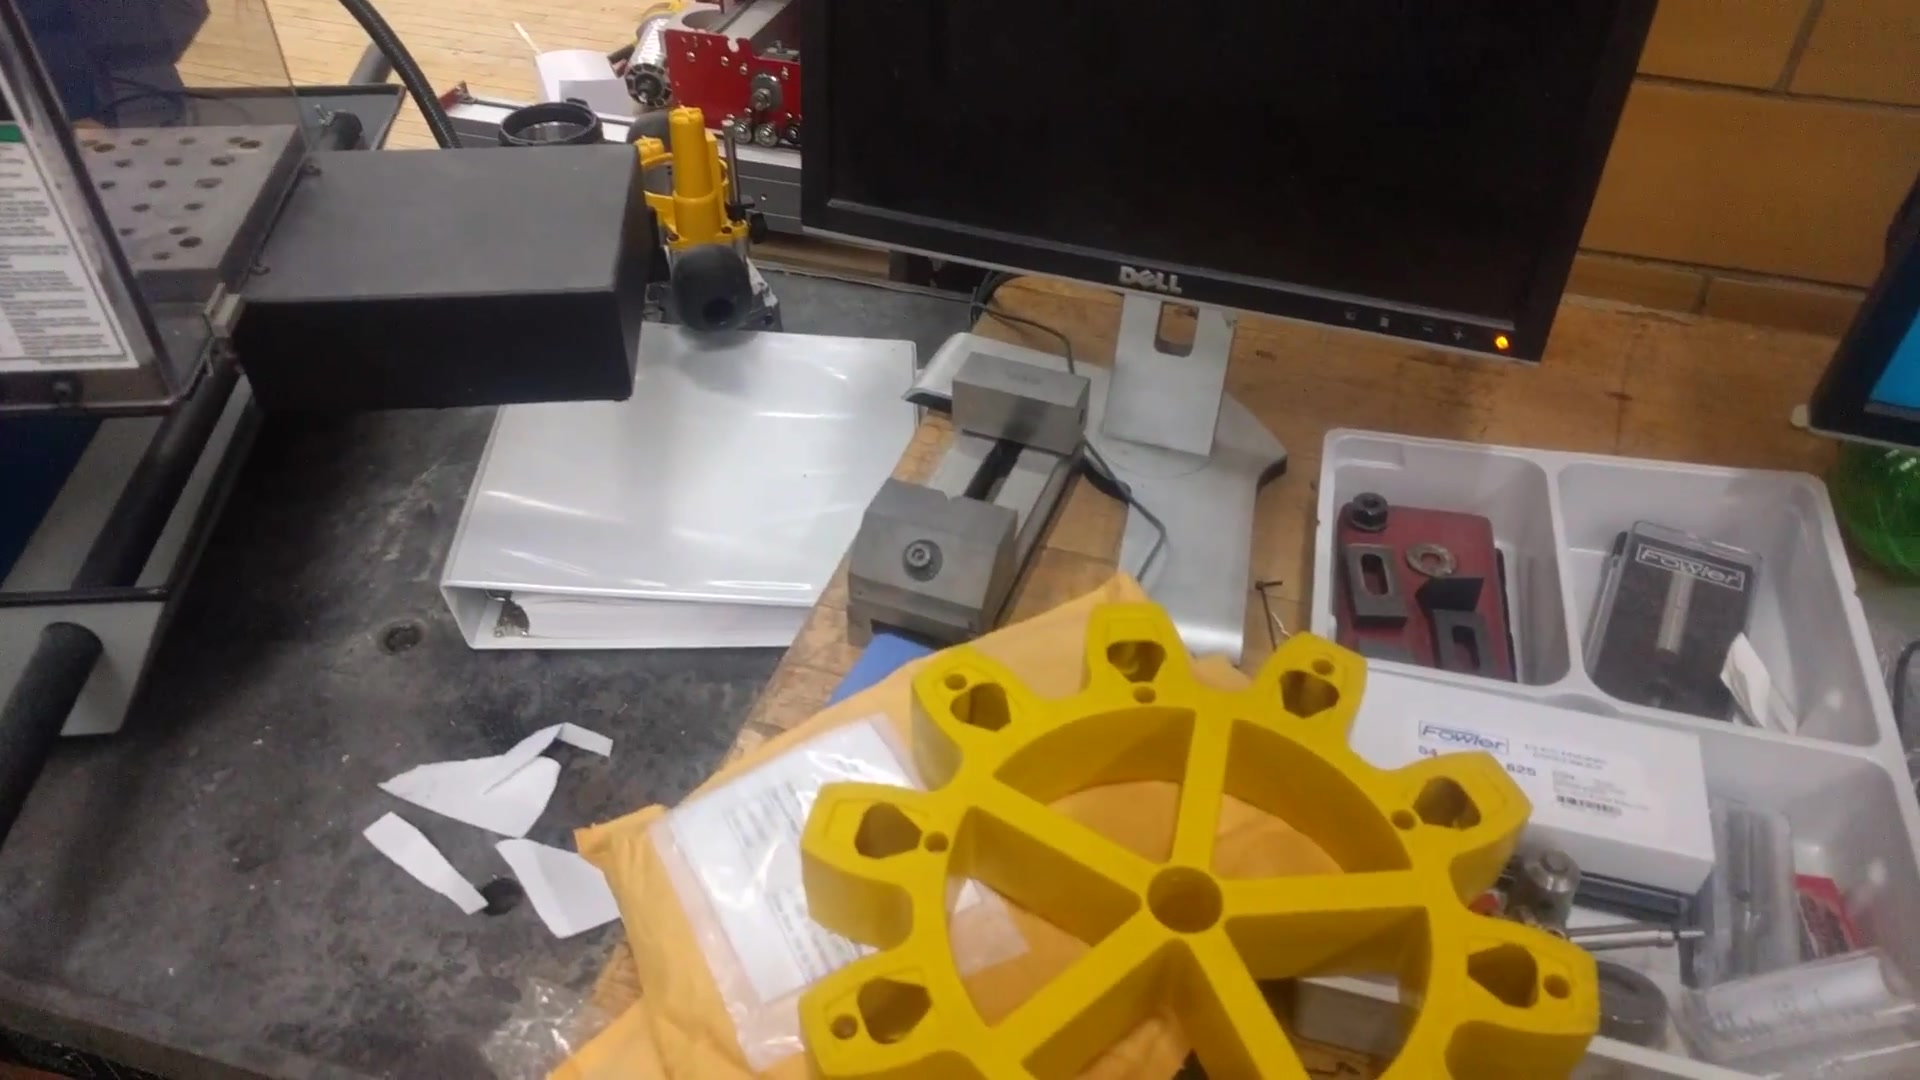gear: (796, 593, 1610, 1080)
